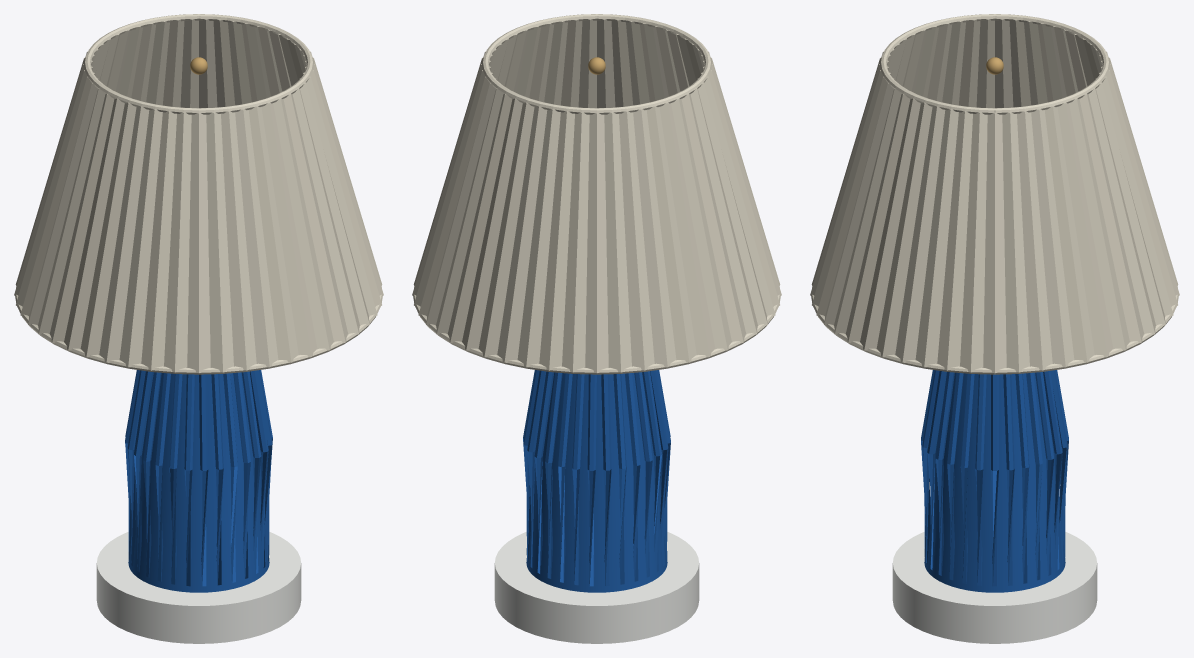
The model's file is apartment-lamp-ceramic.glb.
3 renders of one model, left to right at view 1: azimuth 30°, elevation 25°; view 2: azimuth 150°, elevation 25°; view 3: azimuth 270°, elevation 25°, orthographic.
Visible parts, largest first — view 1: apartment-lamp-ceramic authored assembly; view 2: apartment-lamp-ceramic authored assembly; view 3: apartment-lamp-ceramic authored assembly.
Boxes of the visible parts, x1=… form: apartment-lamp-ceramic authored assembly: x1=14, y1=14, x2=383, y2=643; apartment-lamp-ceramic authored assembly: x1=412, y1=14, x2=781, y2=643; apartment-lamp-ceramic authored assembly: x1=810, y1=14, x2=1179, y2=643.
Size of the model in its own units: 0.21 by 0.34 by 0.21.
